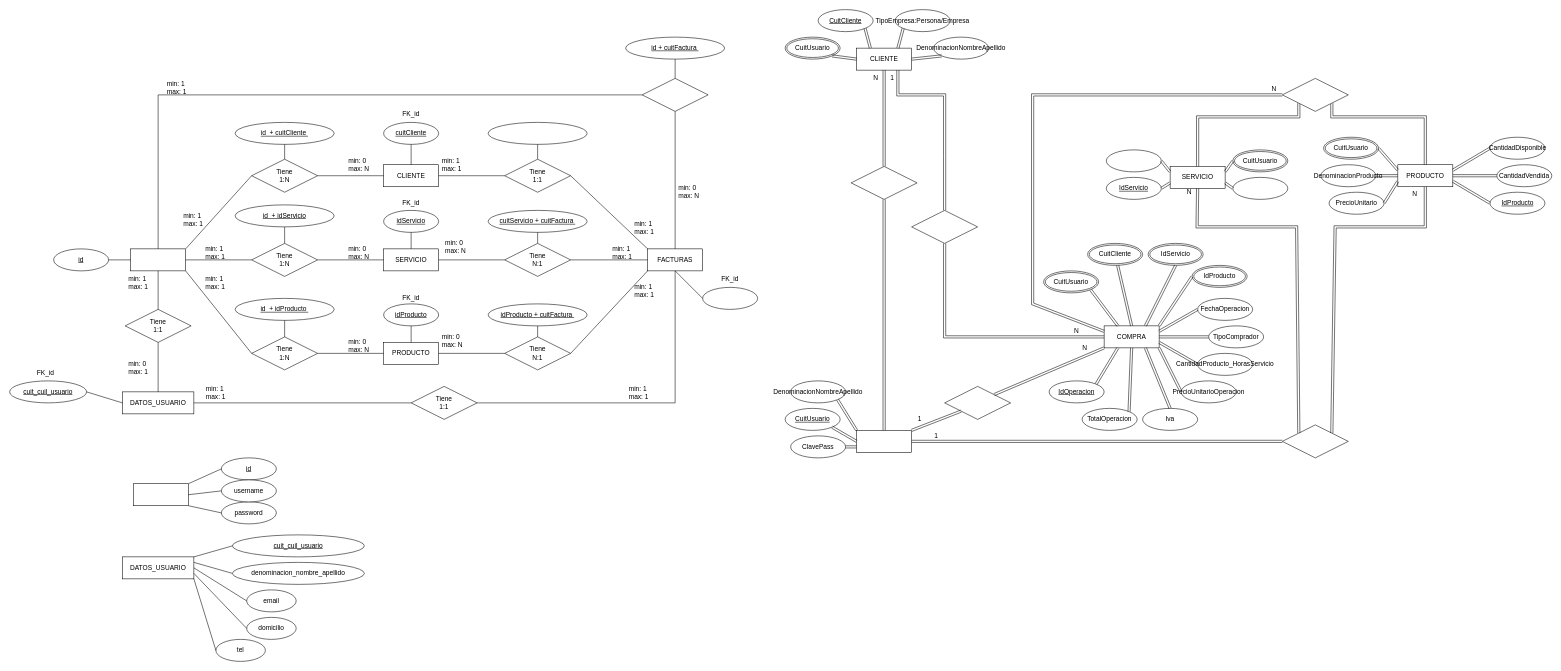
The diagram is 1561 pixels wide and 671 high, and some of its shapes have lost their labels. The shapes that lost their labels are listed below. From the top down, each one's centre as x and y in pixels, then its label:
the point at 675,94: Emite 1:N
the point at 1315,94: Contiene
the point at 537,133: cuitCliente + cuitFactura
the point at 1133,160: DenominacionServicio
the point at 884,182: Tiene
the point at 1260,188: PrecioHora
the point at 944,226: Realiza
the point at 158,259: USERS
the point at 730,298: idFactura
the point at 977,402: Registra
the point at 884,441: USUARIO
the point at 1315,441: Ofrece
the point at 160,494: USUARIOS
